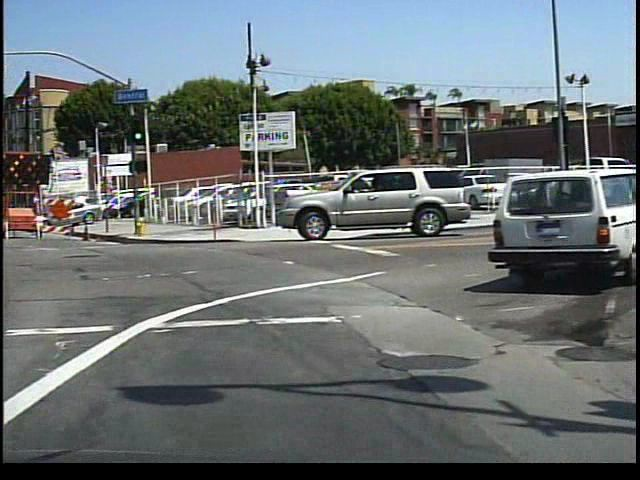person: (570, 162, 590, 205)
